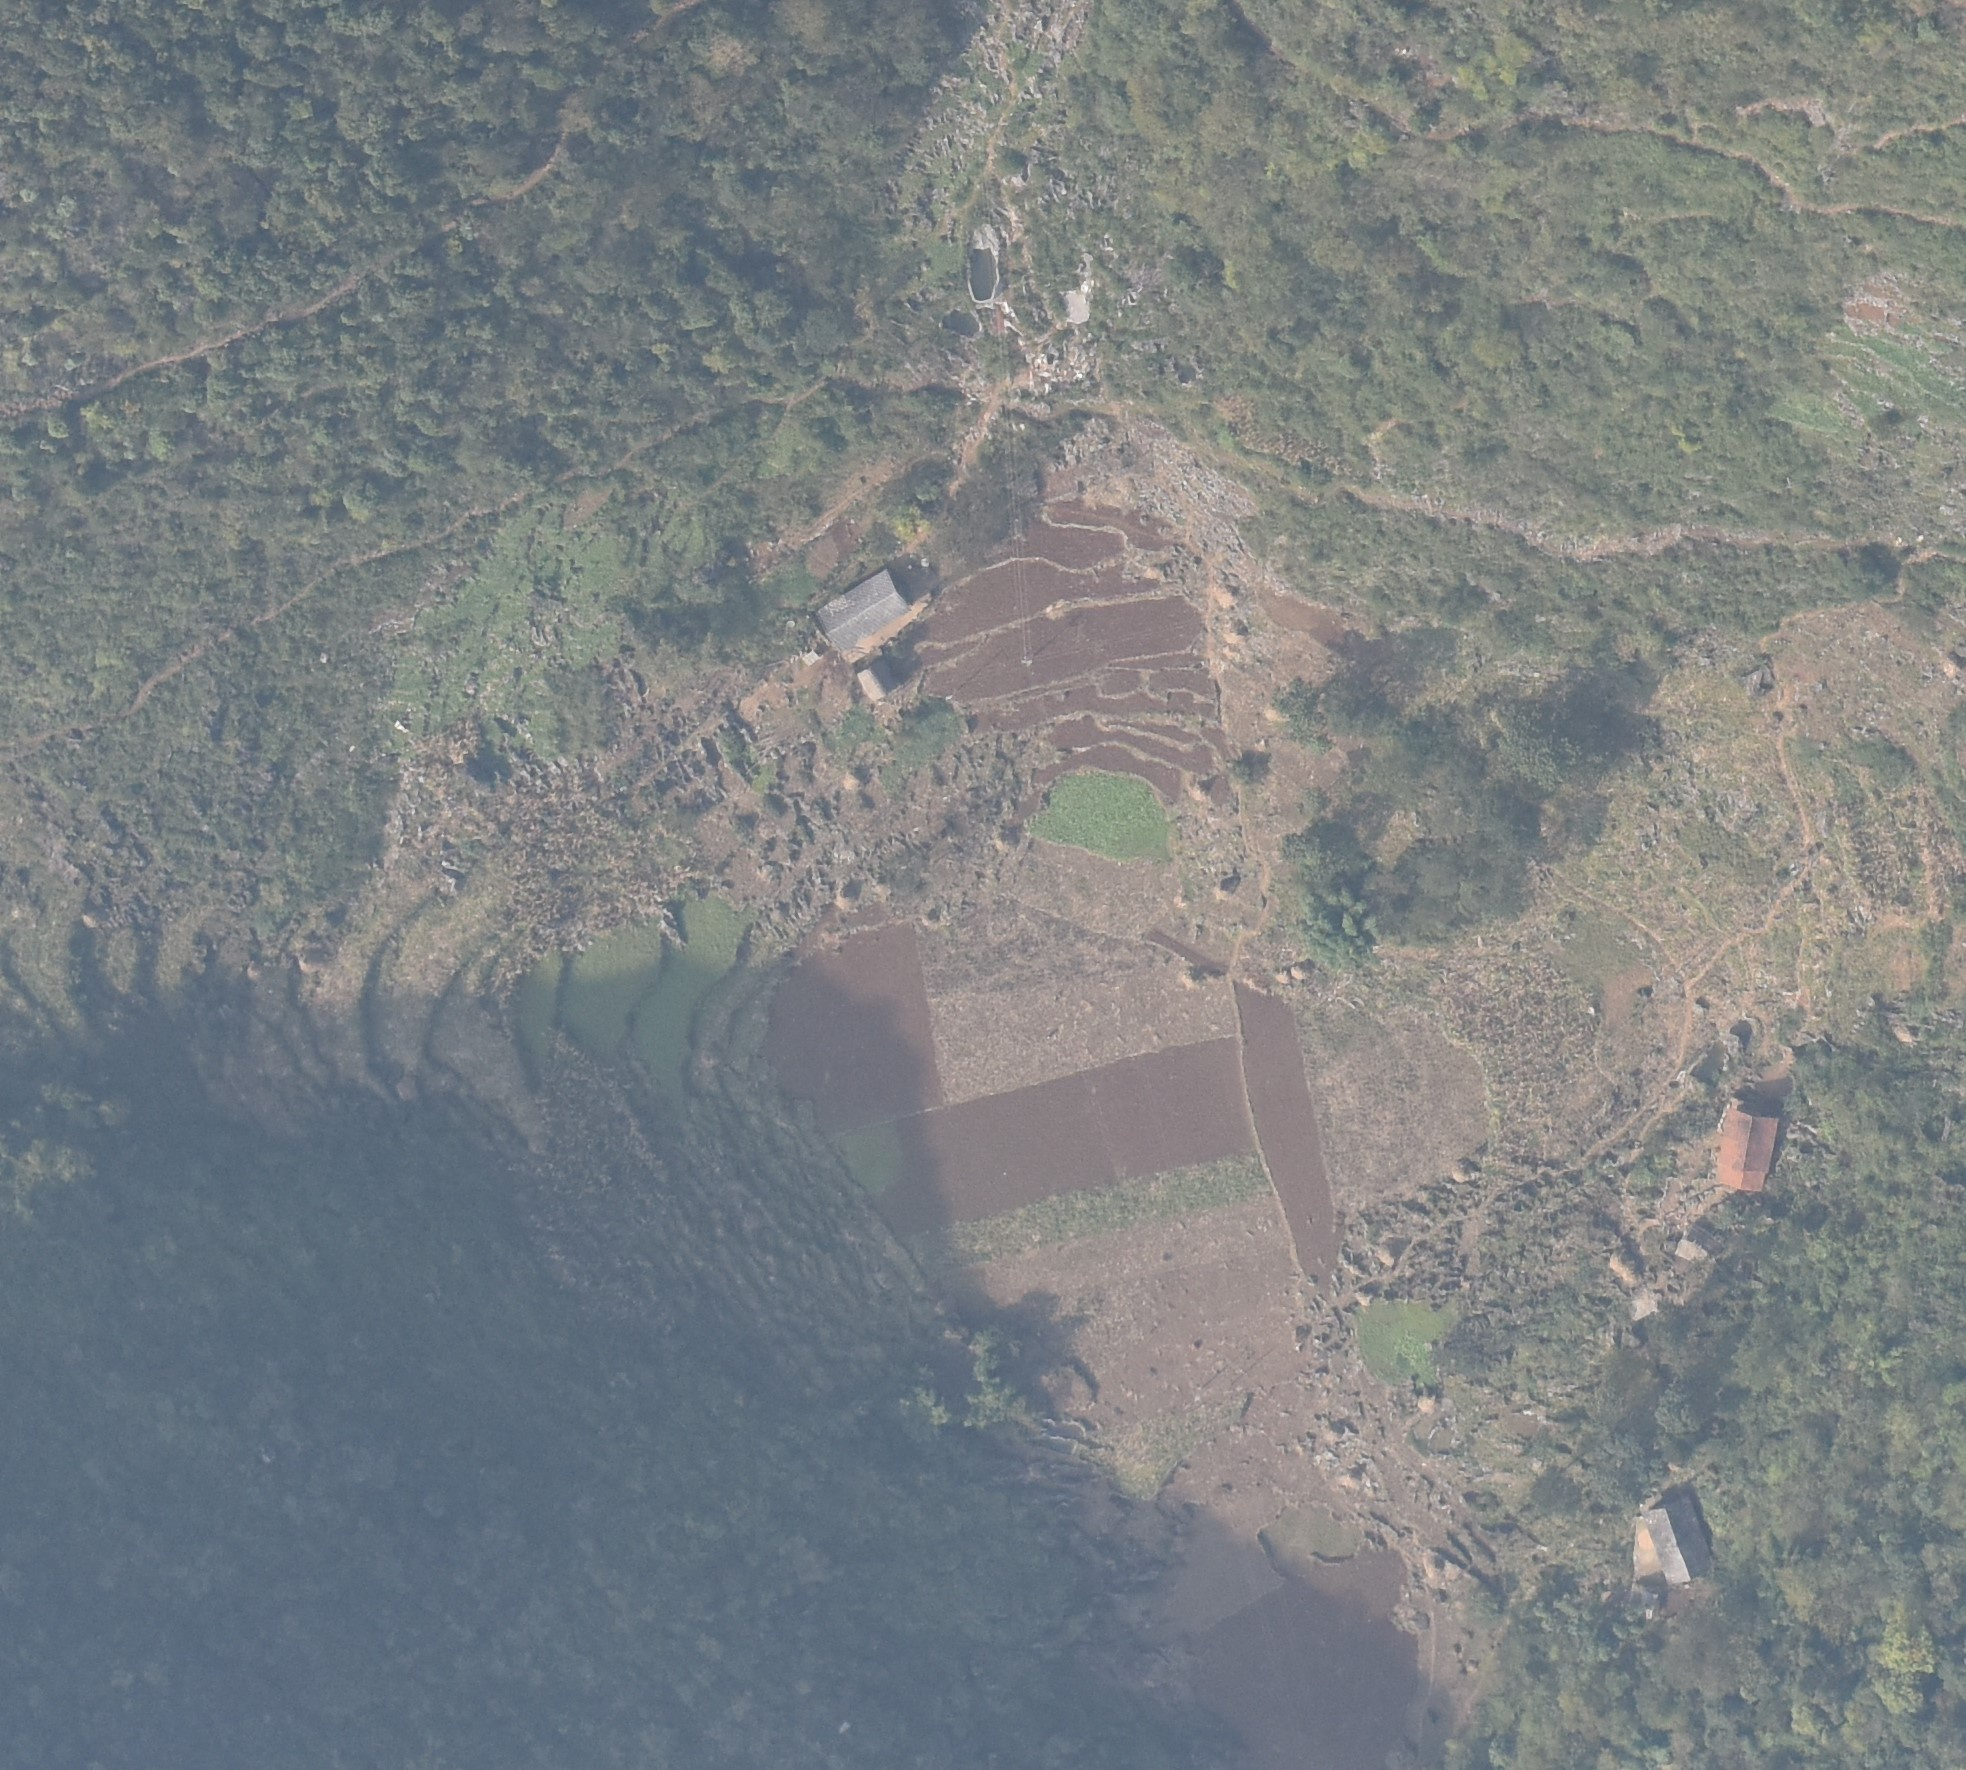building: (817, 569, 910, 655), (858, 661, 893, 700)
cable-tower: (941, 691, 958, 703), (1021, 658, 1033, 666)
prefabricated-house: (1645, 1496, 1709, 1584), (1715, 1106, 1779, 1193)
